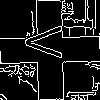V: (25, 25, 72, 59)
